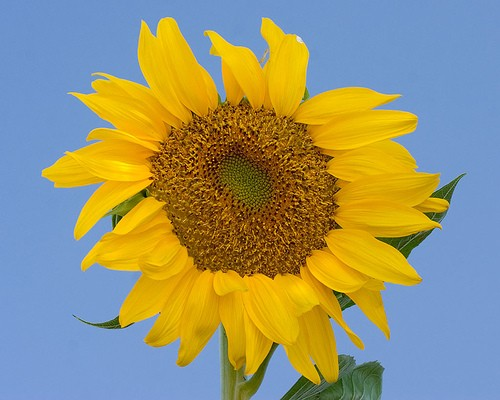flower: (40, 8, 459, 390)
